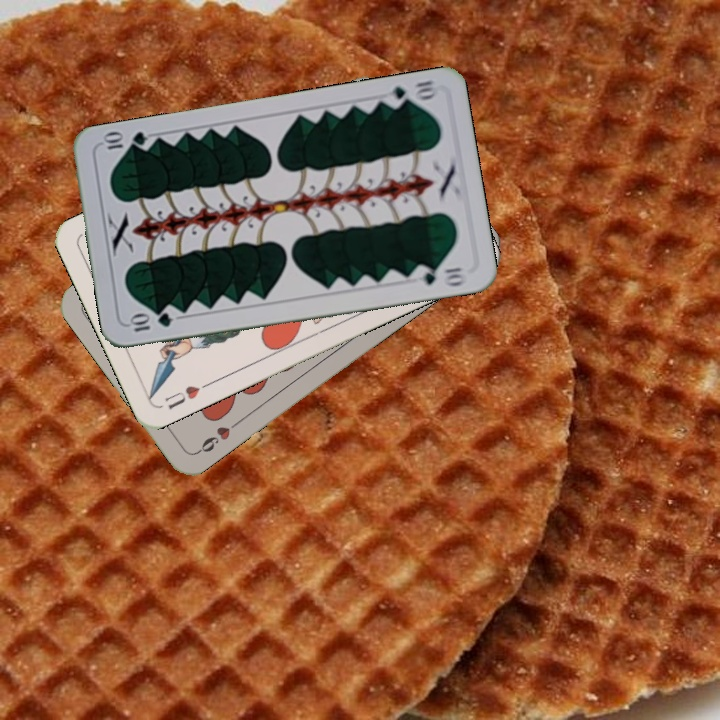G10: (381, 76, 440, 110), (125, 309, 175, 335)
H9: (193, 416, 243, 457)
HU: (160, 378, 213, 412)
